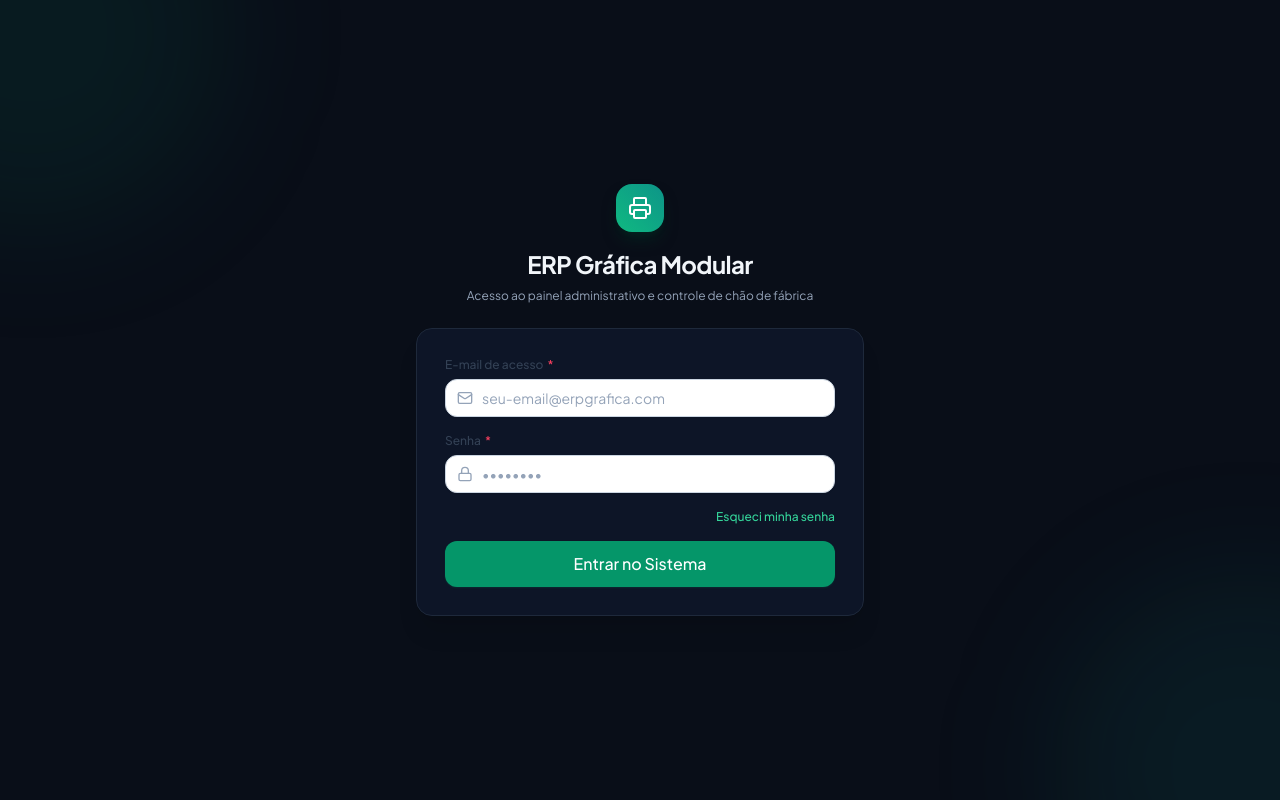
LoginPage › should display error message on login failure
Type "teste@invalido.com" into the field labelled "E-mail de acesso*". click: (640, 398)
box: [445,379,835,417]
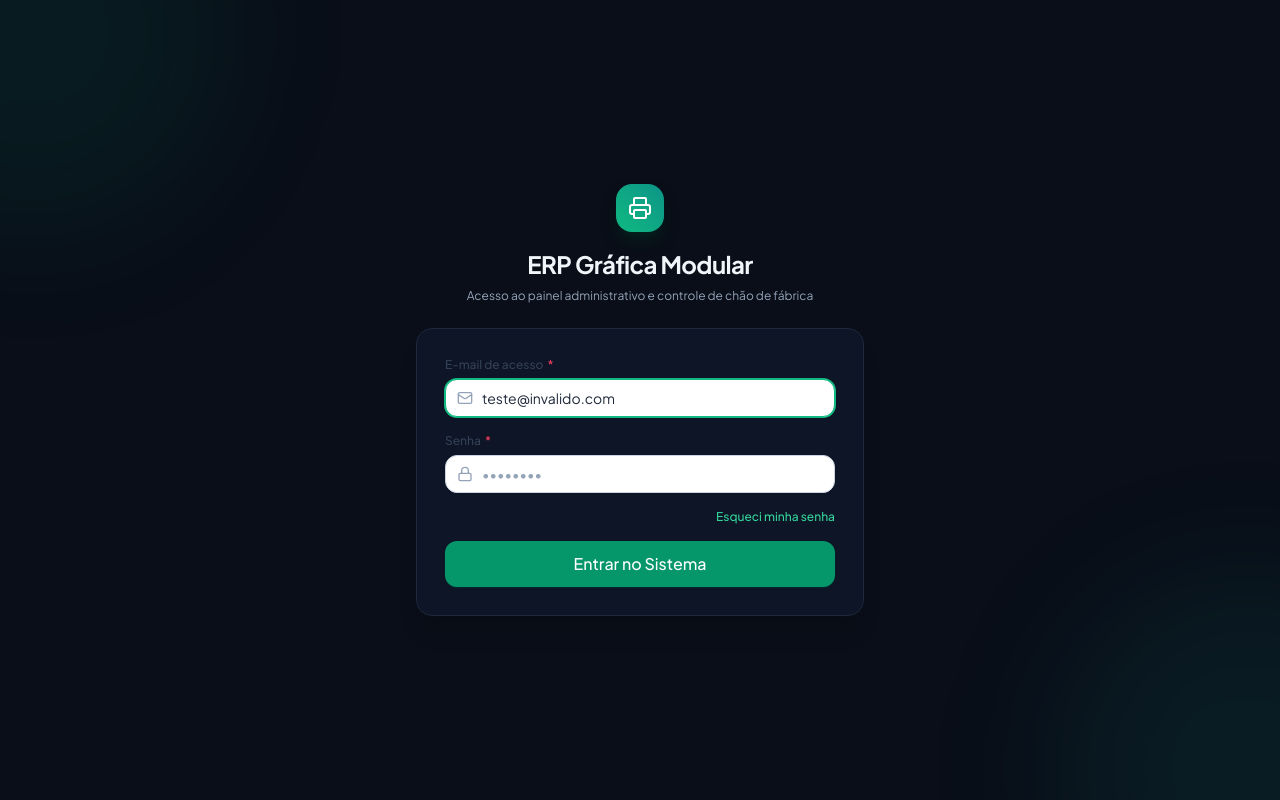
Type "errada123" into the password field labelled "Senha*". click: (640, 474)
box: [445,455,835,493]
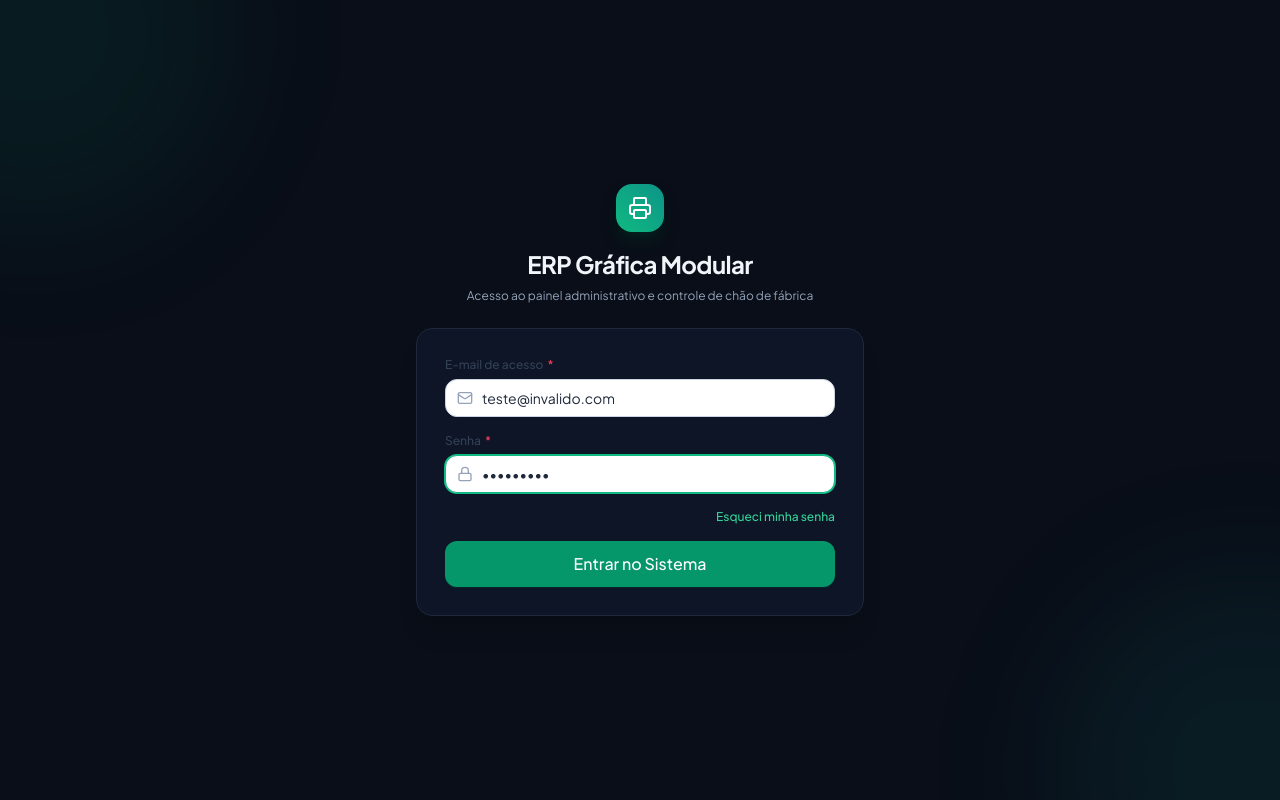
Click the button "Entrar no Sistema". click: (640, 564)
box: [445,541,835,587]
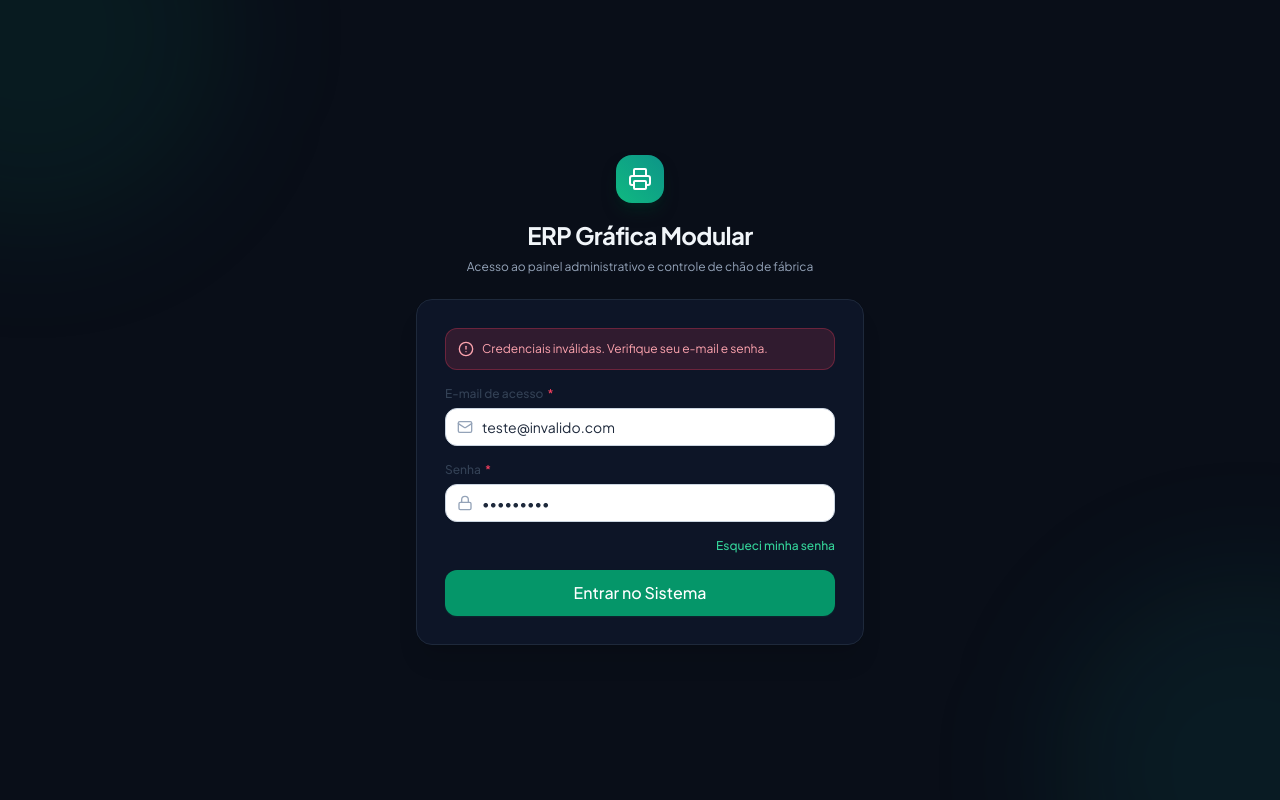
Result: the text "Credenciais inválidas. Verifique seu e-mail e senha." is shown at [482,341,768,357]
